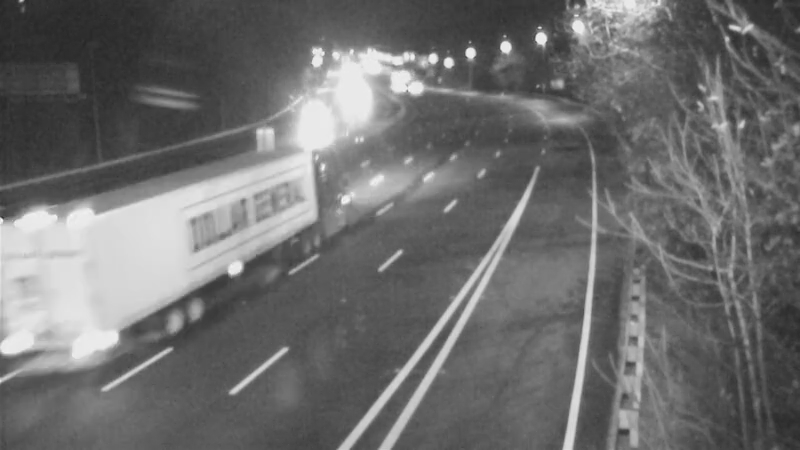vehicle: (93, 241, 173, 321), (295, 103, 345, 153)
